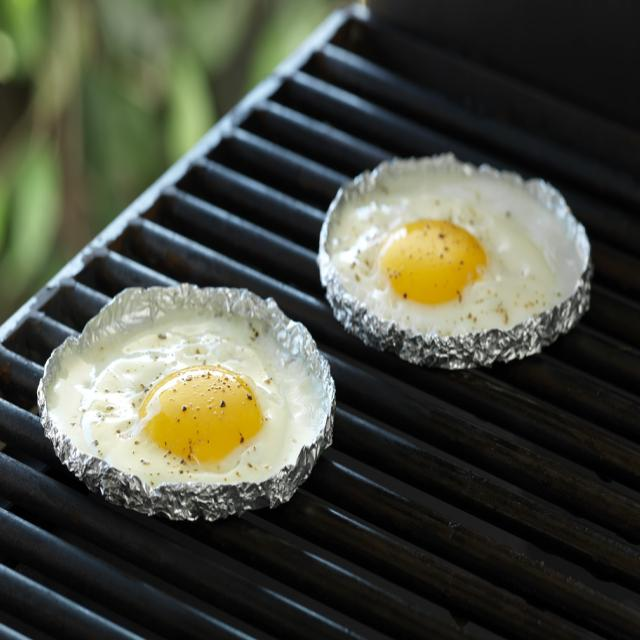Egg: (38, 284, 335, 520), (318, 153, 592, 369)
